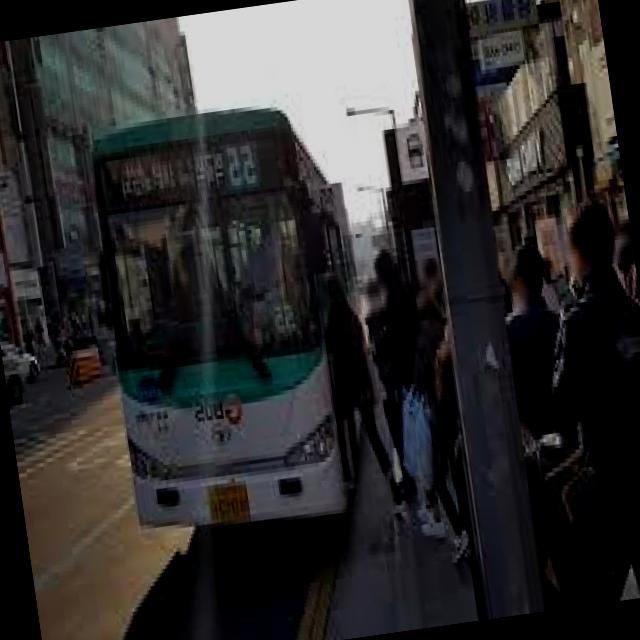bus-number: (223, 142, 260, 190)
